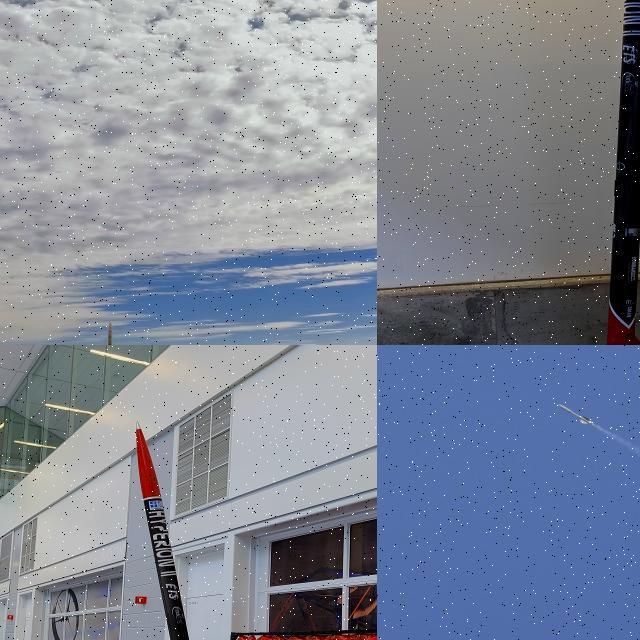Rocket: (136, 420, 189, 640), (558, 404, 593, 424), (107, 320, 113, 345)
